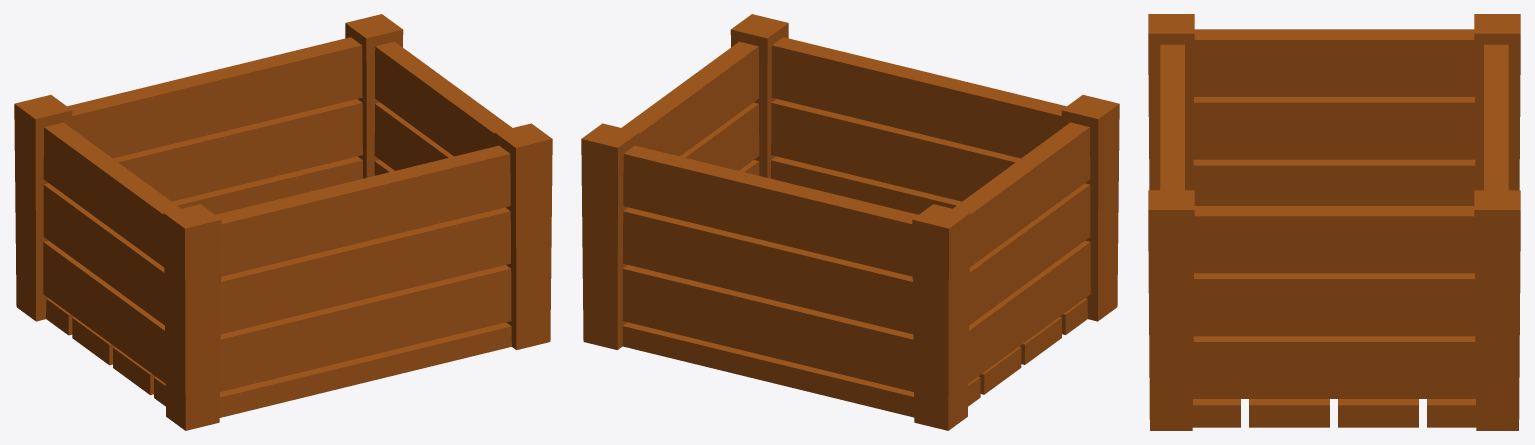
Rendered from random box.FBX.
3 renders of one model, left to right at view 1: azimuth 30°, elevation 25°; view 2: azimuth 150°, elevation 25°; view 3: azimuth 270°, elevation 25°, orthographic. The views are drawn at different scales.
Visible parts, largest first — view 1: Box_01; view 2: Box_01; view 3: Box_01.
Part boxes in pixels (box(x1,y1,x2,y2)): Box_01: box(14, 14, 552, 430); Box_01: box(581, 14, 1119, 430); Box_01: box(1148, 14, 1520, 430).
Size of the model in its own units: 26.22 by 13.85 by 21.08.
